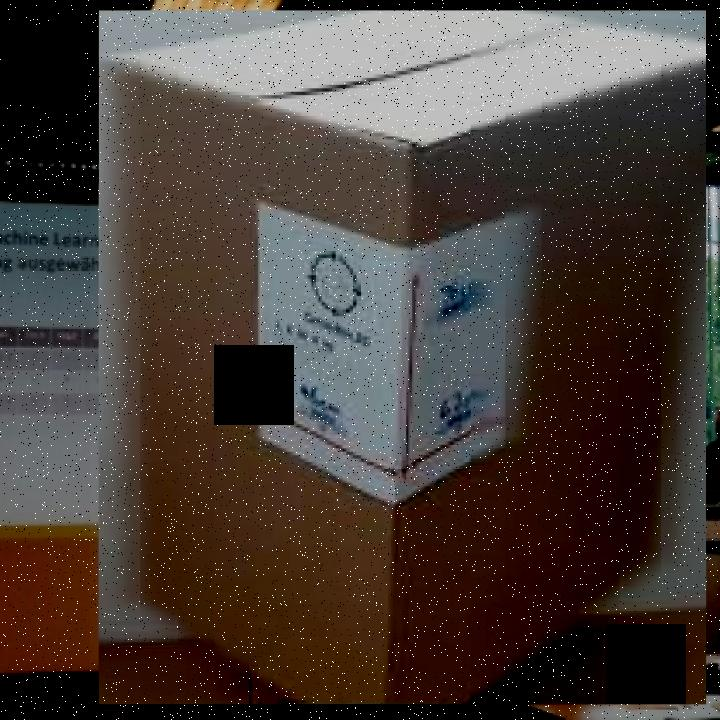box: (90, 0, 717, 717)
